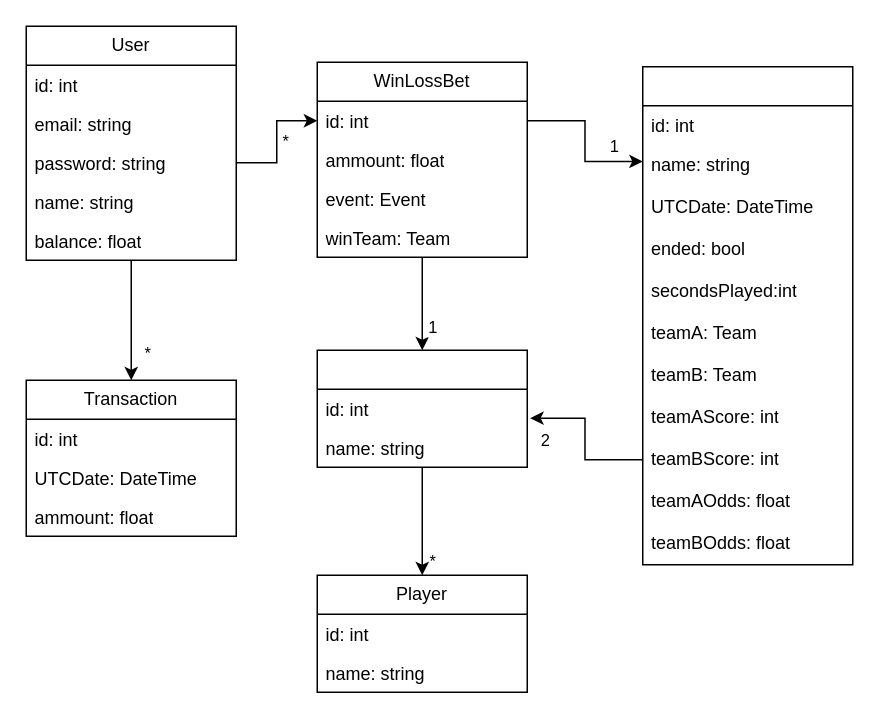
This 879x723 diagram has some shape labels left out. Here are the shapes that lost their labels. From the top down, the box of each, then its label:
(641, 65, 853, 565): Event
(316, 349, 527, 467): Team
